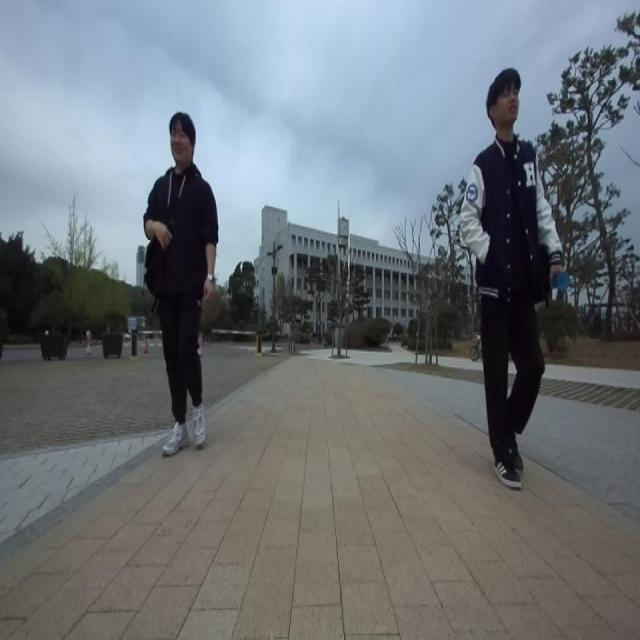sidewalk: (0, 357, 640, 639), (546, 364, 640, 388), (321, 351, 415, 364), (439, 356, 483, 370), (287, 349, 331, 362)
